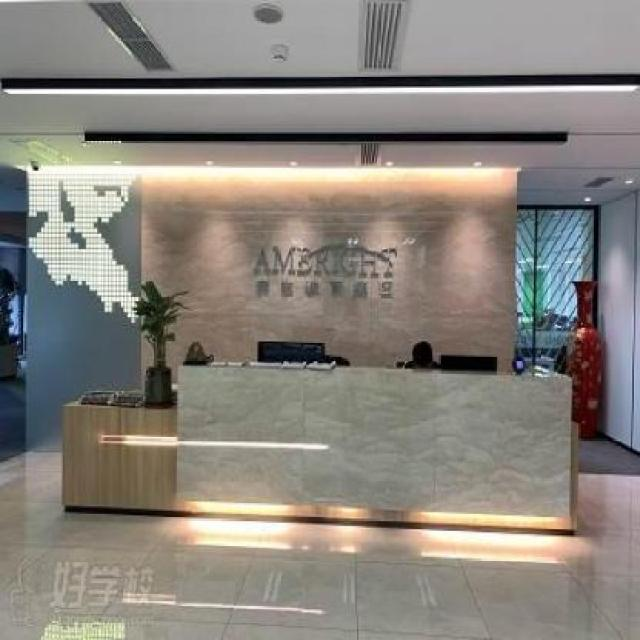frontdesk: (59, 356, 586, 538)
